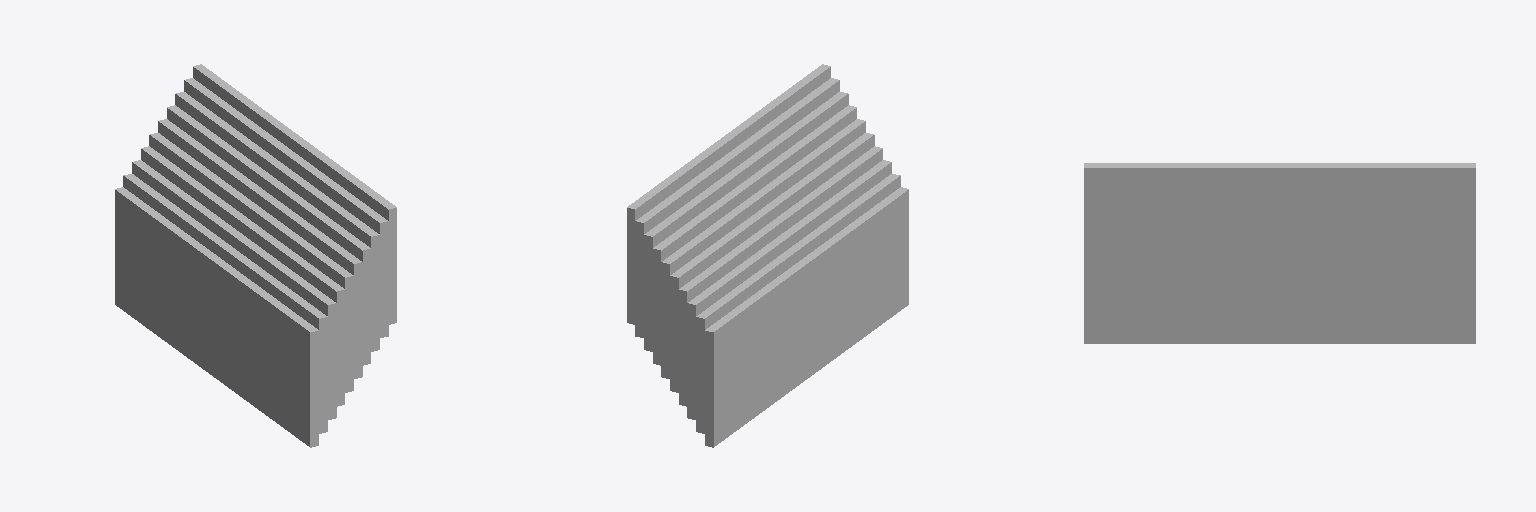
Rendered from stairs.obj.
The picture shows the model from 3 angles: view 1: azimuth 30°, elevation 25°; view 2: azimuth 150°, elevation 25°; view 3: azimuth 270°, elevation 25°; orthographic projection.
Parts seen in each view (by area): view 1: Stairs_(Base)_Cube.013; view 2: Stairs_(Base)_Cube.013; view 3: Stairs_(Base)_Cube.013.
Boxes of the visible parts, x1=… form: Stairs_(Base)_Cube.013: x1=115, y1=64, x2=396, y2=447; Stairs_(Base)_Cube.013: x1=627, y1=64, x2=908, y2=447; Stairs_(Base)_Cube.013: x1=1084, y1=163, x2=1475, y2=343.
Bounding box in the file's own units: 0.1024 × 0.247 × 0.4.